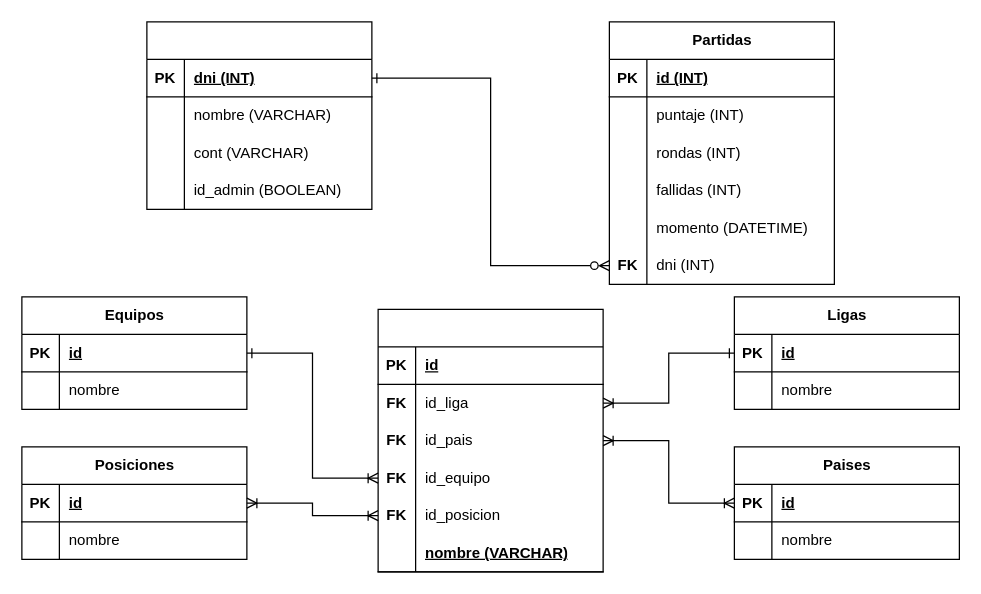
Some shapes in this 981 by 594 pixel diagram are drawn without their labels. Each missing label, with the box of its shape:
Jugadores: (377, 308, 603, 572)
Usuarios: (146, 21, 372, 209)
